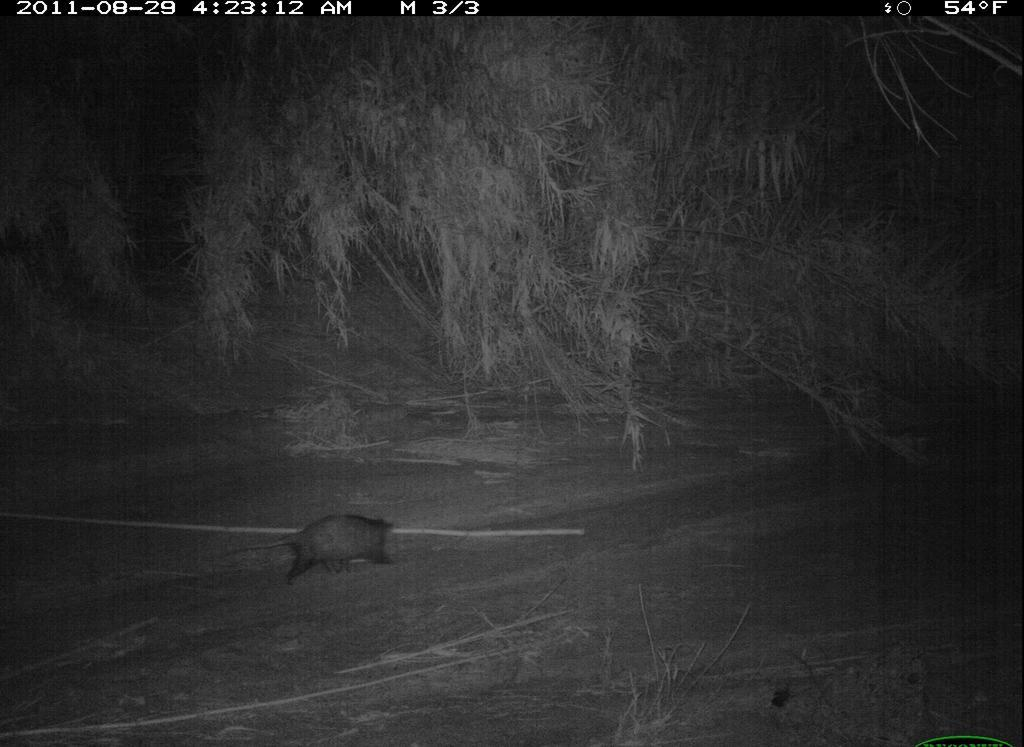opossum: (212, 507, 411, 582)
